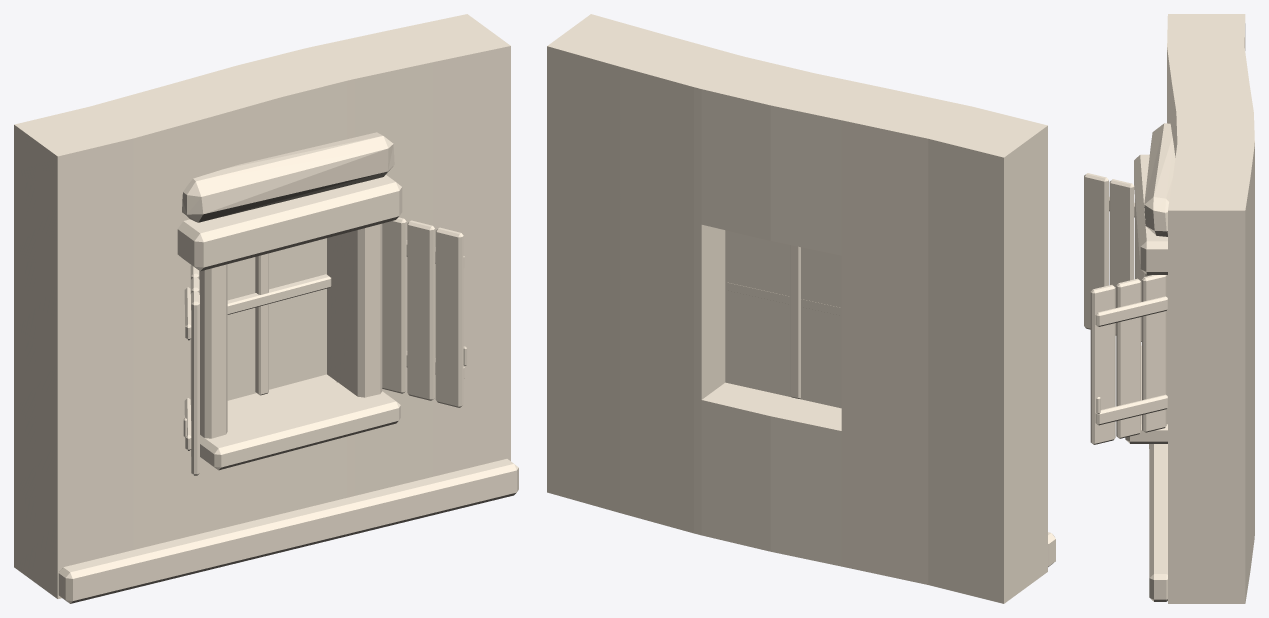
The model's file is SM_VK_Def_StoneUp_Window.fbx.
3 renders of one model, left to right at view 1: azimuth 30°, elevation 25°; view 2: azimuth 150°, elevation 25°; view 3: azimuth 270°, elevation 25°, orthographic. The views are drawn at different scales.
Visible parts, largest first — view 1: SM_VK_Def_StoneUp_Window.001; view 2: SM_VK_Def_StoneUp_Window.001; view 3: SM_VK_Def_StoneUp_Window.001.
Boxes of the visible parts, x1,y1,x2,y2 form: SM_VK_Def_StoneUp_Window.001: (14, 14, 518, 603); SM_VK_Def_StoneUp_Window.001: (547, 14, 1055, 603); SM_VK_Def_StoneUp_Window.001: (1084, 14, 1254, 603).
Bounding box in the file's own units: 3 × 2.8 × 1.1.
